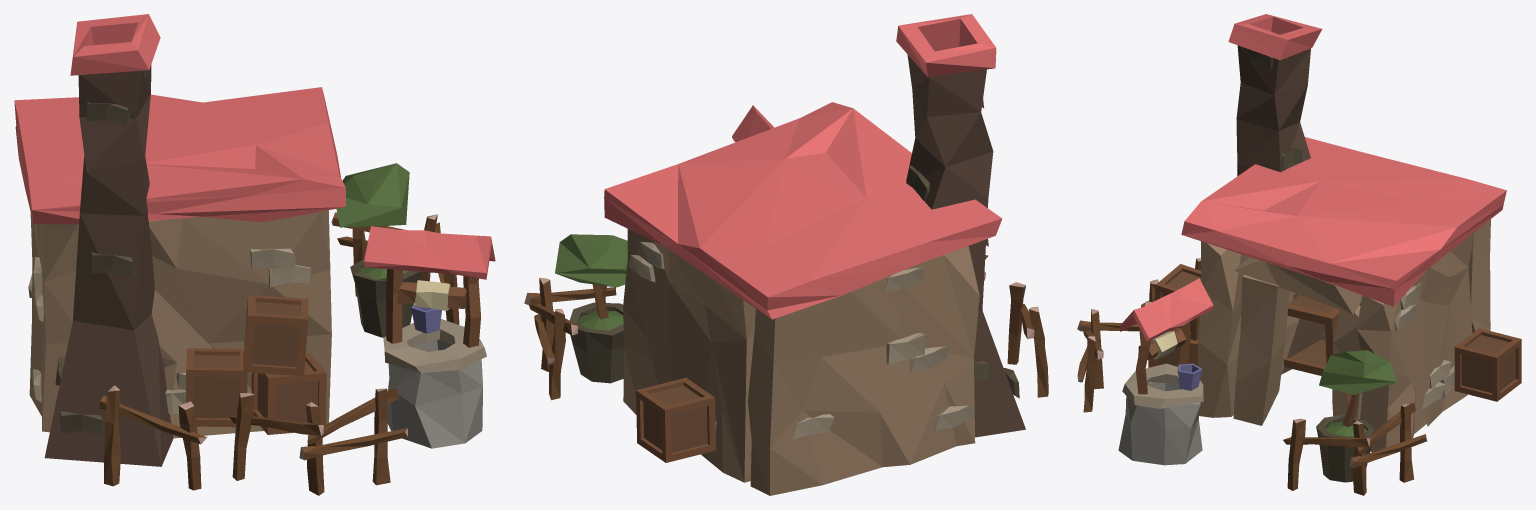
Rendered from stone hut.fbx.
The picture shows the model from 3 angles, left to right: view 1: azimuth 30°, elevation 25°; view 2: azimuth 150°, elevation 25°; view 3: azimuth 270°, elevation 25°; orthographic projection. The views are drawn at different scales.
Parts seen in each view (by area): view 1: stone hut; view 2: stone hut; view 3: stone hut.
Part boxes in pixels (left/top/right/bottom): stone hut: left=14, top=14, right=495, bottom=495; stone hut: left=524, top=14, right=1048, bottom=495; stone hut: left=1077, top=14, right=1521, bottom=495.
Bounding box in the file's own units: 921 × 770 × 948.
